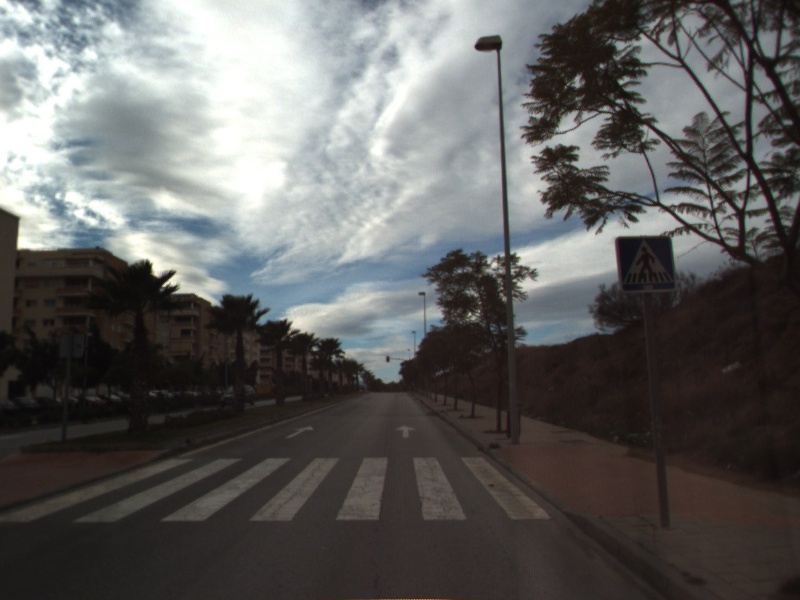STRAIGHT: (283, 423, 316, 440), (393, 423, 418, 440)
